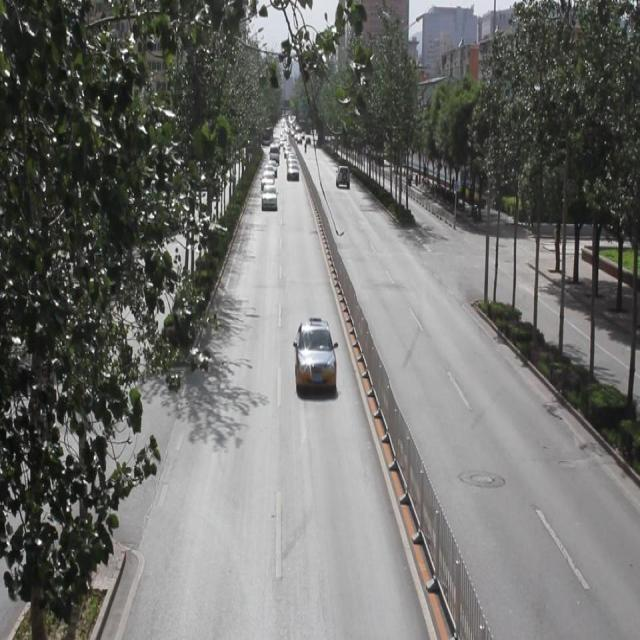car: (293, 318, 335, 394), (260, 182, 276, 210)
